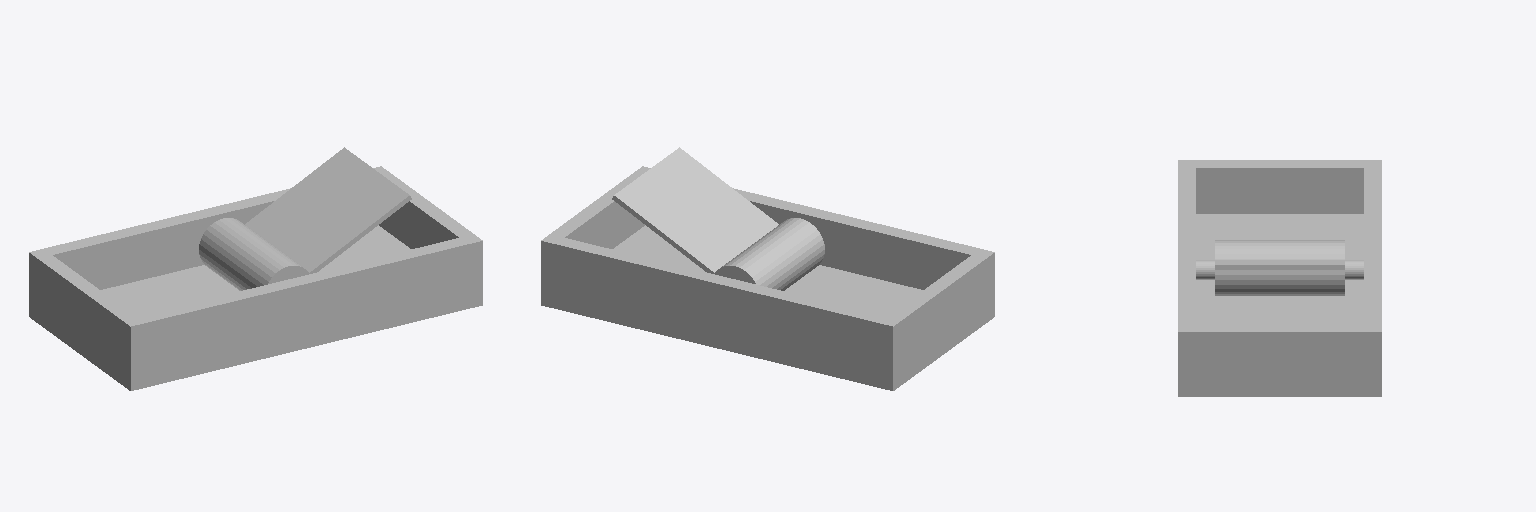
File: SwtichOn.obj
3 renders of one model, left to right at view 1: azimuth 30°, elevation 25°; view 2: azimuth 150°, elevation 25°; view 3: azimuth 270°, elevation 25°, orthographic.
Parts seen in each view (by area): view 1: Cube_Cube.001, Cylinder; view 2: Cube_Cube.001, Cylinder; view 3: Cube_Cube.001, Cylinder.
Boxes of the visible parts, <box> form: Cube_Cube.001: <box>29,166,482,390</box>; Cylinder: <box>199,147,411,290</box>; Cube_Cube.001: <box>541,166,994,390</box>; Cylinder: <box>612,147,824,290</box>; Cube_Cube.001: <box>1178,160,1381,396</box>; Cylinder: <box>1215,240,1344,295</box>.
Bounding box in the file's own units: 4 × 1.2 × 2.